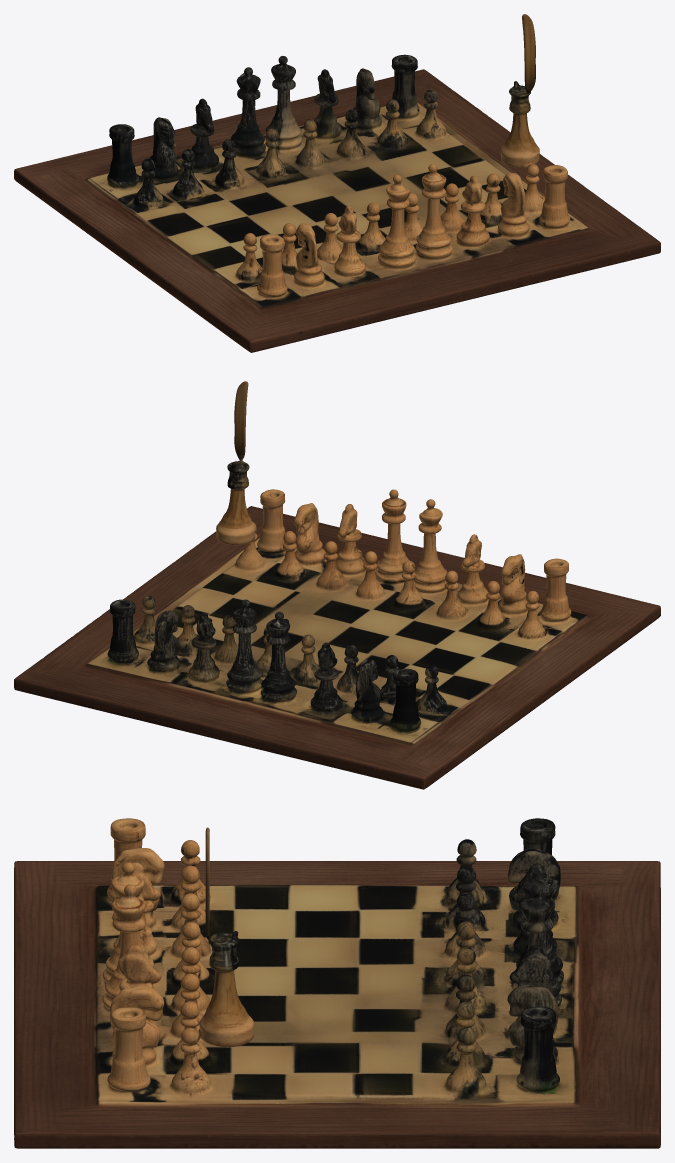
The model's file is chess.glb.
3 views of the same model, one above another, from view 1: azimuth 30°, elevation 25°; view 2: azimuth 150°, elevation 25°; view 3: azimuth 270°, elevation 25° (orthographic). The views are drawn at different scales.
Parts seen in each view (by area): view 1: world; view 2: world; view 3: world.
Part boxes in pixels (x1=…): world: x1=14, y1=14, x2=660, y2=352; world: x1=14, y1=381, x2=660, y2=789; world: x1=14, y1=818, x2=660, y2=1148.
Size of the model in its own units: 1 by 0.4733 by 0.9999.
1 material, 1 textured.
